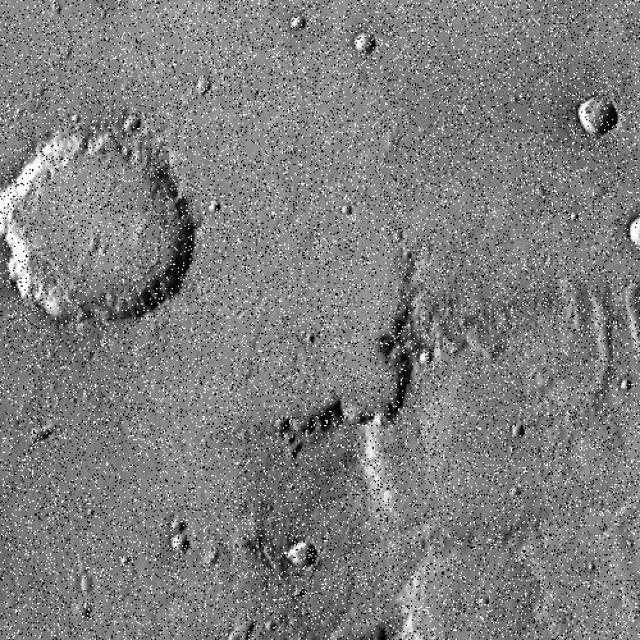crater: (0, 118, 209, 339), (0, 0, 207, 110), (336, 0, 500, 83), (475, 0, 607, 67)
